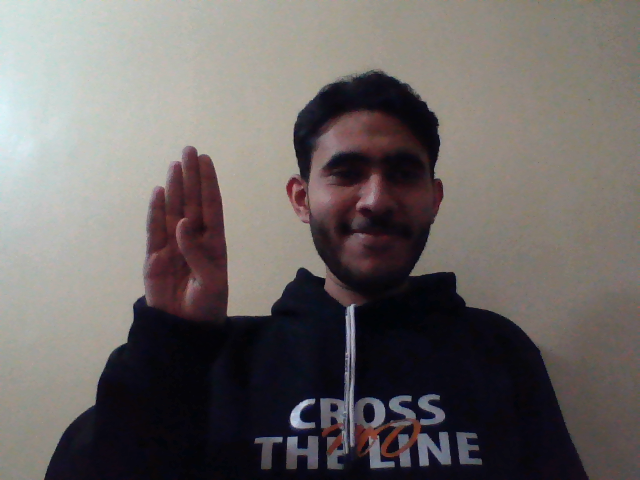B: (138, 137, 229, 325)
